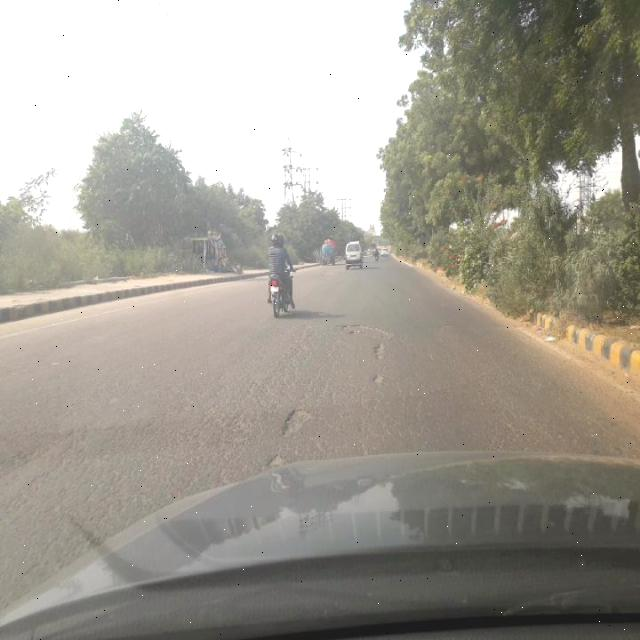D20: (9, 316, 594, 484)
D40: (273, 392, 322, 443), (344, 317, 393, 367), (254, 453, 284, 471)
